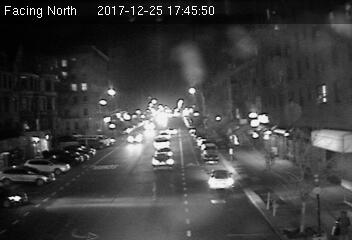car: (206, 169, 234, 191), (151, 153, 173, 169), (202, 150, 220, 164), (125, 132, 146, 143), (152, 136, 171, 148)
